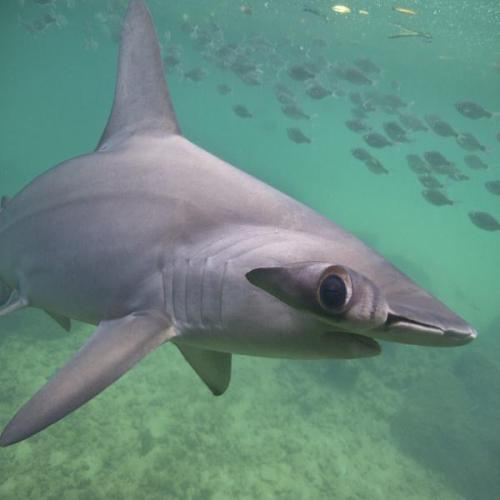shark-endangered: (0, 0, 478, 446)
